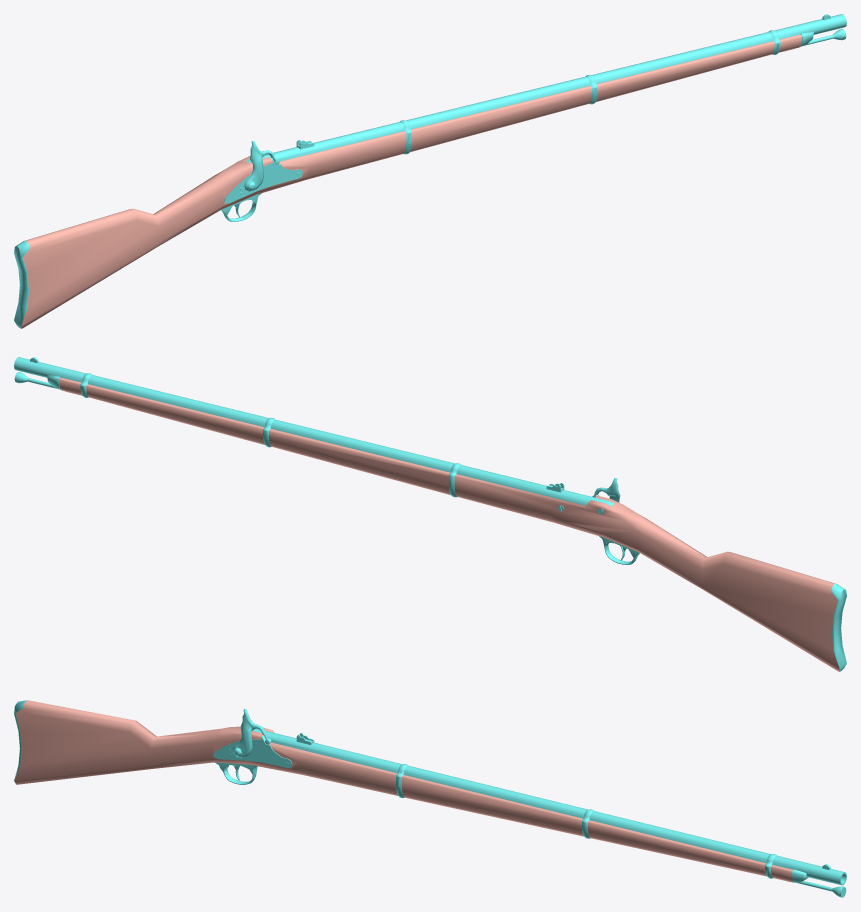
File: Springfield1861.fbx
3 renders of one model, top to bottom at view 1: azimuth 30°, elevation 25°; view 2: azimuth 150°, elevation 25°; view 3: azimuth 330°, elevation 25°, orthographic.
Visible parts, largest first — view 1: Model, musket_hammer; view 2: Model; view 3: Model, musket_hammer.
Part boxes in pixels (bbox=[...]): Model: bbox=[14, 14, 846, 328]; musket_hammer: bbox=[244, 141, 274, 191]; Model: bbox=[14, 357, 846, 671]; Model: bbox=[14, 700, 846, 885]; musket_hammer: bbox=[233, 709, 266, 757].
Bounding box in the file's own units: 1400 × 218 × 40.5.
